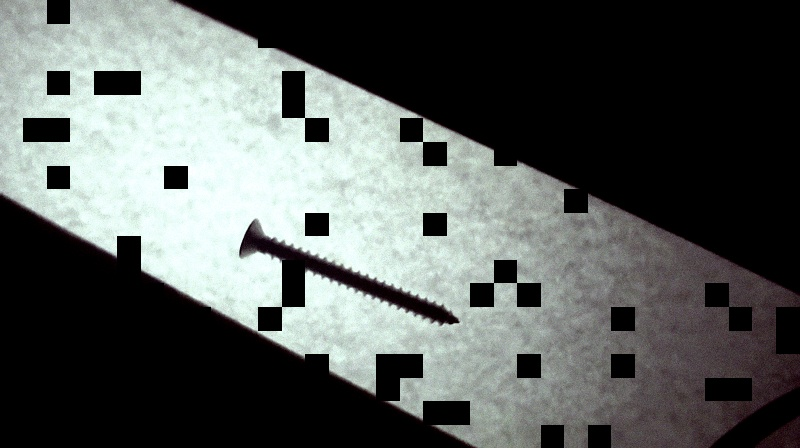S002: (232, 214, 464, 330)
